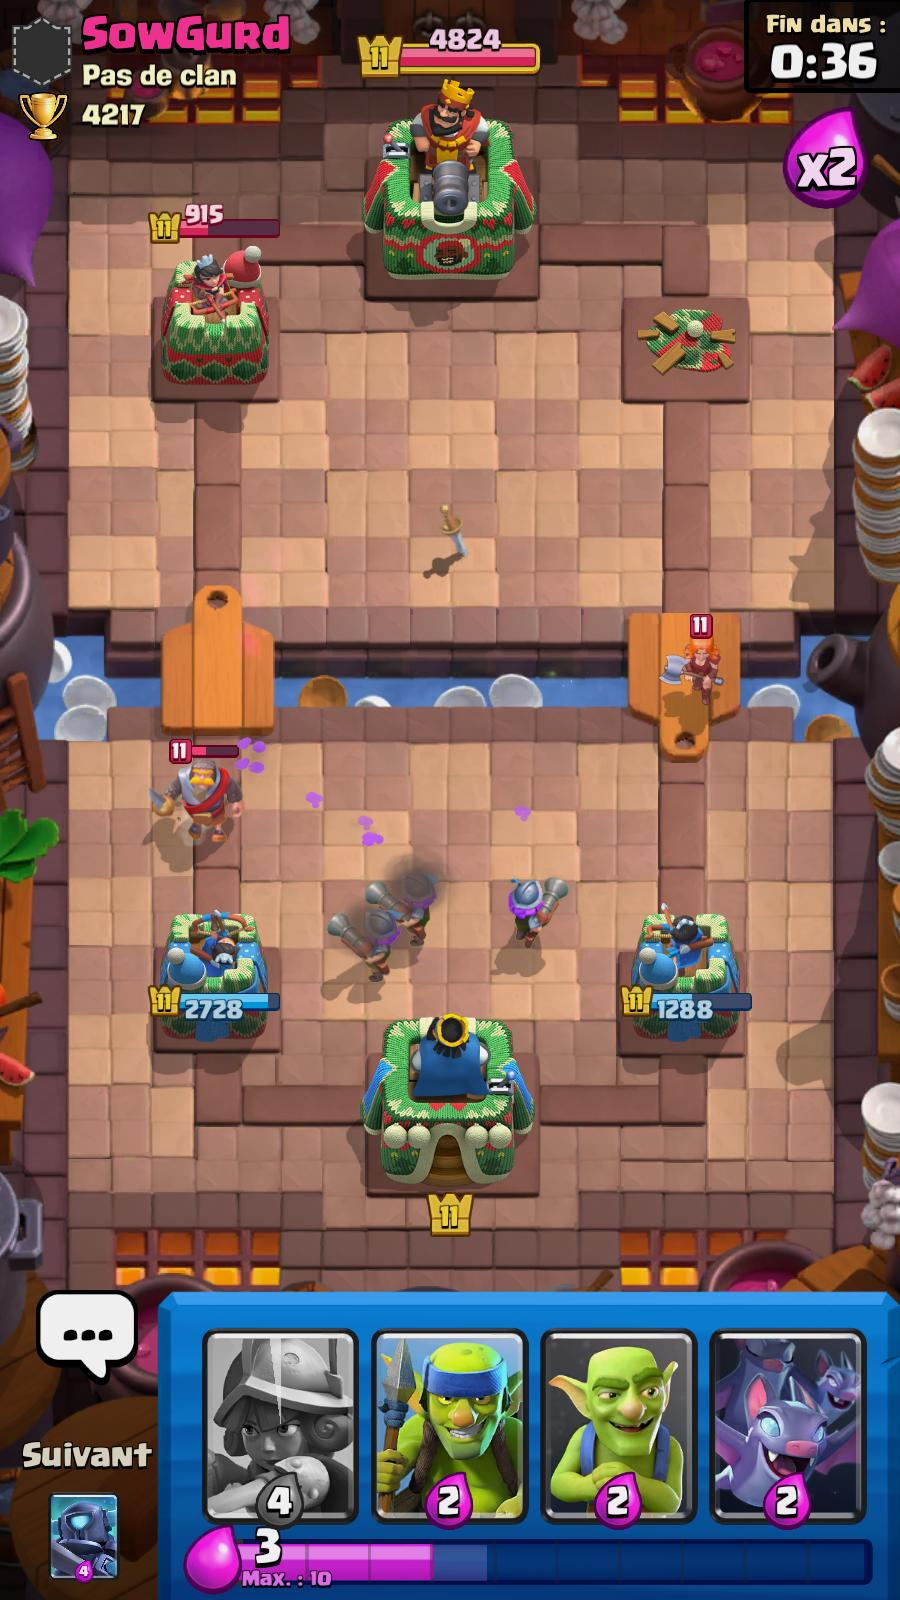chevalier: (154, 740, 252, 849)
mousquetaire: (326, 905, 398, 987), (503, 871, 565, 963), (365, 881, 430, 958)
valkyrie: (669, 611, 724, 711)
